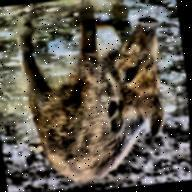boar: (17, 3, 185, 190)
